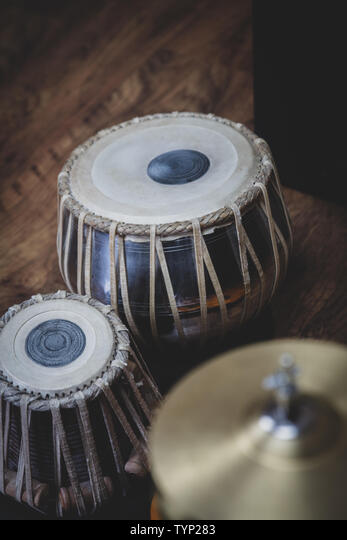tabla: (57, 110, 294, 332), (7, 294, 156, 511)
